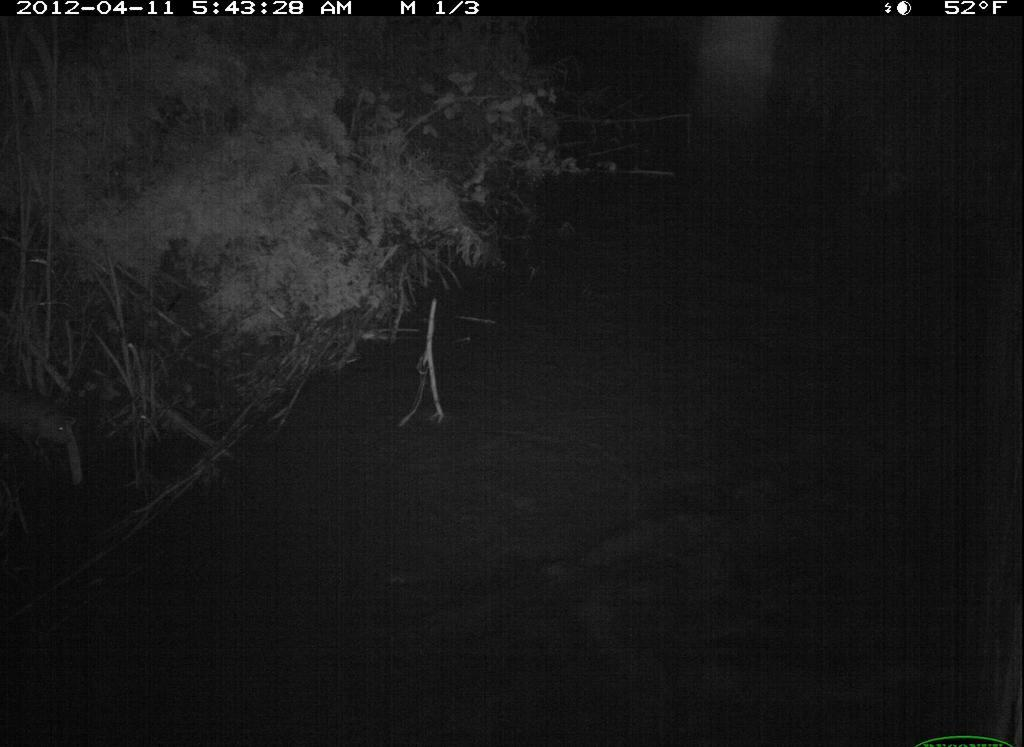opossum: (2, 373, 91, 478)
